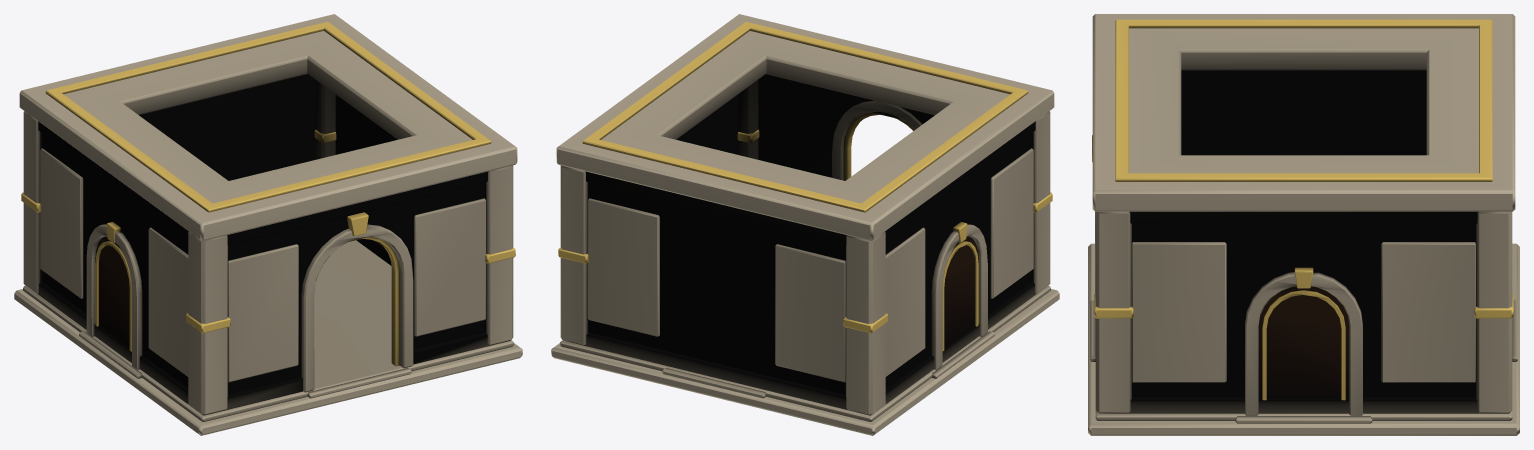
The model's file is clock_tower_base.glb.
3 renders of one model, left to right at view 1: azimuth 30°, elevation 25°; view 2: azimuth 150°, elevation 25°; view 3: azimuth 270°, elevation 25°, orthographic. The views are drawn at different scales.
Parts seen in each view (by area): view 1: ClockTowerBase_WallPanel, ClockTowerBase_Capstone, ClockTowerBase_Platform, ClockTowerBase_CornerBlock, ClockTowerBase_EntranceArch, ClockTowerBase_ArchPanel, ClockTowerBase_Step; view 2: ClockTowerBase_WallPanel, ClockTowerBase_Capstone, ClockTowerBase_CornerBlock, ClockTowerBase_Platform, ClockTowerBase_ArchPanel, ClockTowerBase_EntranceArch, ClockTowerBase_Step; view 3: ClockTowerBase_WallPanel, ClockTowerBase_Capstone, ClockTowerBase_CornerBlock, ClockTowerBase_ArchPanel, ClockTowerBase_Platform, ClockTowerBase_Step.
Boxes of the visible parts, x1=… form: ClockTowerBase_WallPanel: x1=38, y1=74, x2=506, y2=414; ClockTowerBase_Capstone: x1=19, y1=14, x2=517, y2=240; ClockTowerBase_Platform: x1=14, y1=240, x2=522, y2=435; ClockTowerBase_CornerBlock: x1=21, y1=80, x2=515, y2=415; ClockTowerBase_EntranceArch: x1=301, y1=212, x2=413, y2=392; ClockTowerBase_ArchPanel: x1=86, y1=222, x2=142, y2=369; ClockTowerBase_Step: x1=79, y1=331, x2=411, y2=398; ClockTowerBase_WallPanel: x1=567, y1=74, x2=1035, y2=414; ClockTowerBase_Capstone: x1=556, y1=14, x2=1054, y2=240; ClockTowerBase_CornerBlock: x1=558, y1=80, x2=1052, y2=415; ClockTowerBase_Platform: x1=551, y1=285, x2=1059, y2=435; ClockTowerBase_ArchPanel: x1=931, y1=222, x2=987, y2=369; ClockTowerBase_EntranceArch: x1=832, y1=100, x2=922, y2=180; ClockTowerBase_Step: x1=662, y1=331, x2=994, y2=398; ClockTowerBase_WallPanel: x1=1105, y1=70, x2=1502, y2=413; ClockTowerBase_Capstone: x1=1092, y1=14, x2=1515, y2=211; ClockTowerBase_CornerBlock: x1=1094, y1=211, x2=1513, y2=413; ClockTowerBase_ArchPanel: x1=1245, y1=267, x2=1362, y2=415; ClockTowerBase_Platform: x1=1088, y1=243, x2=1519, y2=435; ClockTowerBase_Step: x1=1090, y1=300, x2=1517, y2=423.
Size of the model in its own units: 0.095 by 0.06 by 0.095.
